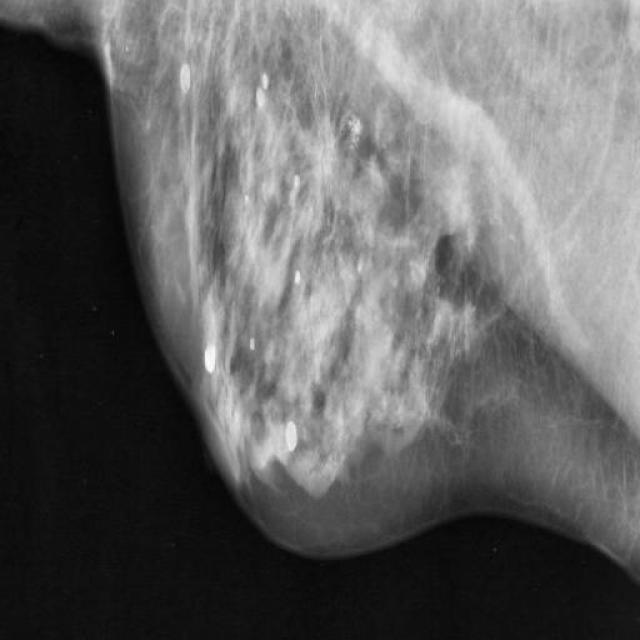cancer: (298, 102, 342, 216)
